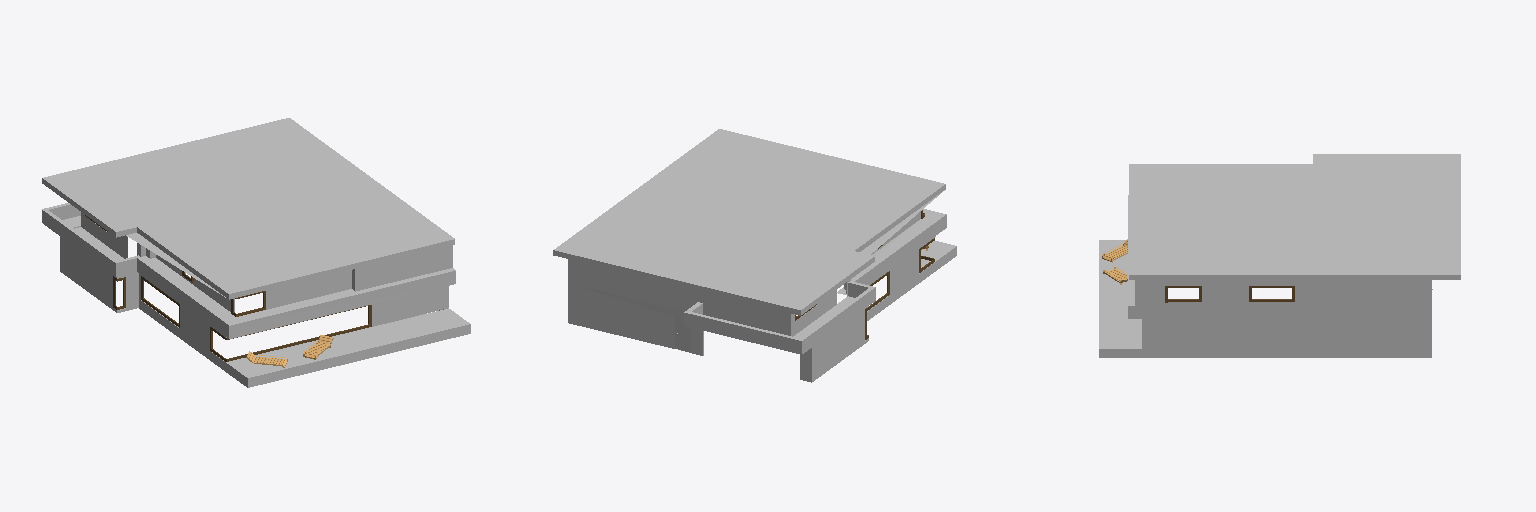
The picture shows the model from 3 angles: view 1: azimuth 30°, elevation 25°; view 2: azimuth 150°, elevation 25°; view 3: azimuth 270°, elevation 25°; orthographic projection.
Parts seen in each view (by area): view 1: Techo_Cubo.001, Contorno_balcón_Esfera.019, Terraza_Cubo.020, Contorno_PB_Cubo.017, Contorno_Esfera.014, Contorno_Ventanas_Plano.004, Camastros_Cubo.002; view 2: Techo_Cubo.001, Contorno_PB_Cubo.017, Contorno_balcón_Esfera.019, Contorno_Esfera.014, Terraza_Cubo.020; view 3: Techo_Cubo.001, Contorno_PB_Cubo.017, Contorno_Esfera.014, Terraza_Cubo.020, Contorno_Ventanas_Plano.004.
Part boxes in pixels (x1,y1,x2,y2): Techo_Cubo.001: (42, 118, 454, 299); Contorno_balcón_Esfera.019: (42, 203, 455, 338); Terraza_Cubo.020: (226, 308, 470, 387); Contorno_PB_Cubo.017: (60, 226, 448, 371); Contorno_Esfera.014: (81, 212, 351, 311); Contorno_Ventanas_Plano.004: (85, 215, 371, 361); Camastros_Cubo.002: (246, 335, 333, 367); Techo_Cubo.001: (553, 129, 945, 315); Contorno_PB_Cubo.017: (568, 236, 935, 382); Contorno_balcón_Esfera.019: (684, 209, 946, 354); Contorno_Esfera.014: (568, 211, 920, 336); Terraza_Cubo.020: (921, 241, 956, 270); Techo_Cubo.001: (1129, 154, 1460, 279); Contorno_PB_Cubo.017: (1142, 319, 1431, 357); Contorno_Esfera.014: (1128, 280, 1431, 318); Terraza_Cubo.020: (1099, 240, 1141, 357); Contorno_Ventanas_Plano.004: (1165, 286, 1294, 302).
Size of the model in its own units: 9.91 by 3.2 by 12.52.
10 materials, 2 textured.